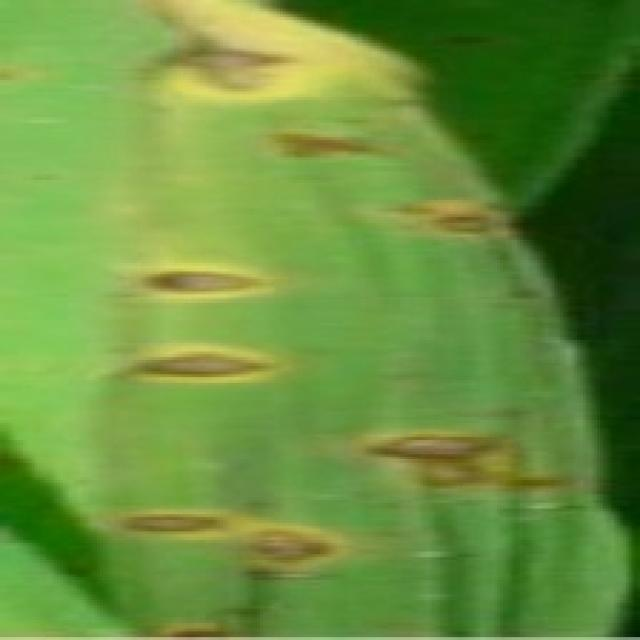Unhealthy: (132, 0, 406, 105), (348, 428, 579, 494), (119, 343, 302, 384), (96, 506, 270, 545), (239, 521, 375, 568), (131, 265, 292, 302), (378, 202, 521, 237), (255, 132, 394, 160), (159, 622, 231, 637)
